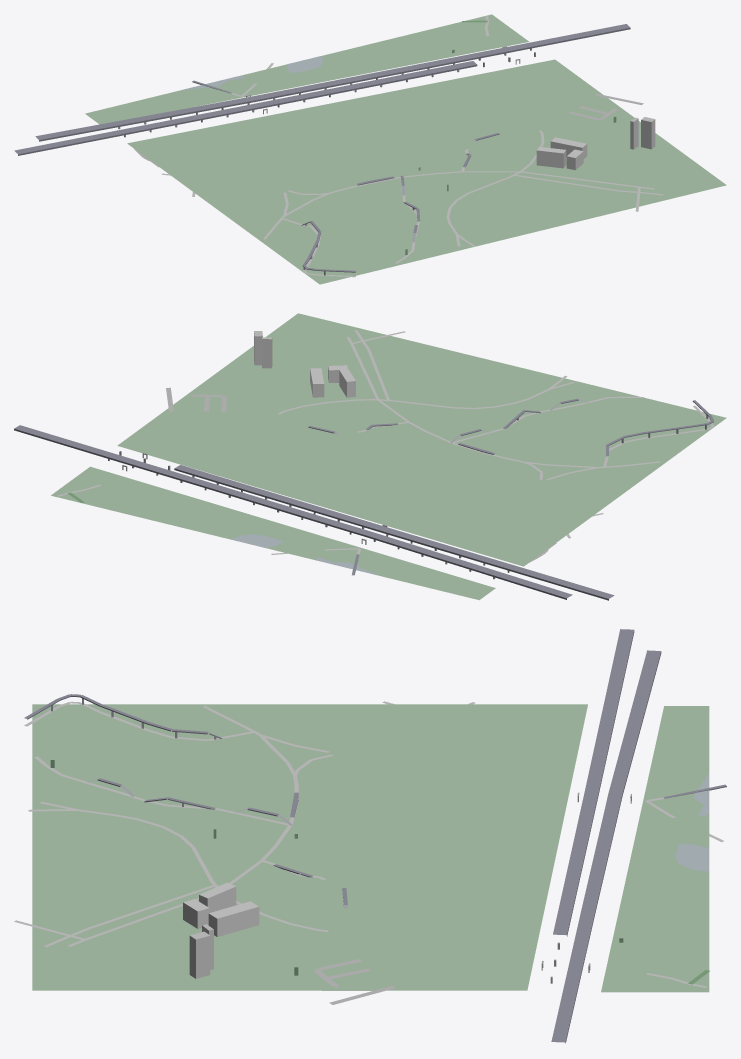
3 views of the same model, one above another, from view 1: azimuth 30°, elevation 25°; view 2: azimuth 150°, elevation 25°; view 3: azimuth 270°, elevation 25° (orthographic). The views are drawn at different scales.
Bounding box in the file's own units: 724 × 35.63 × 527.
